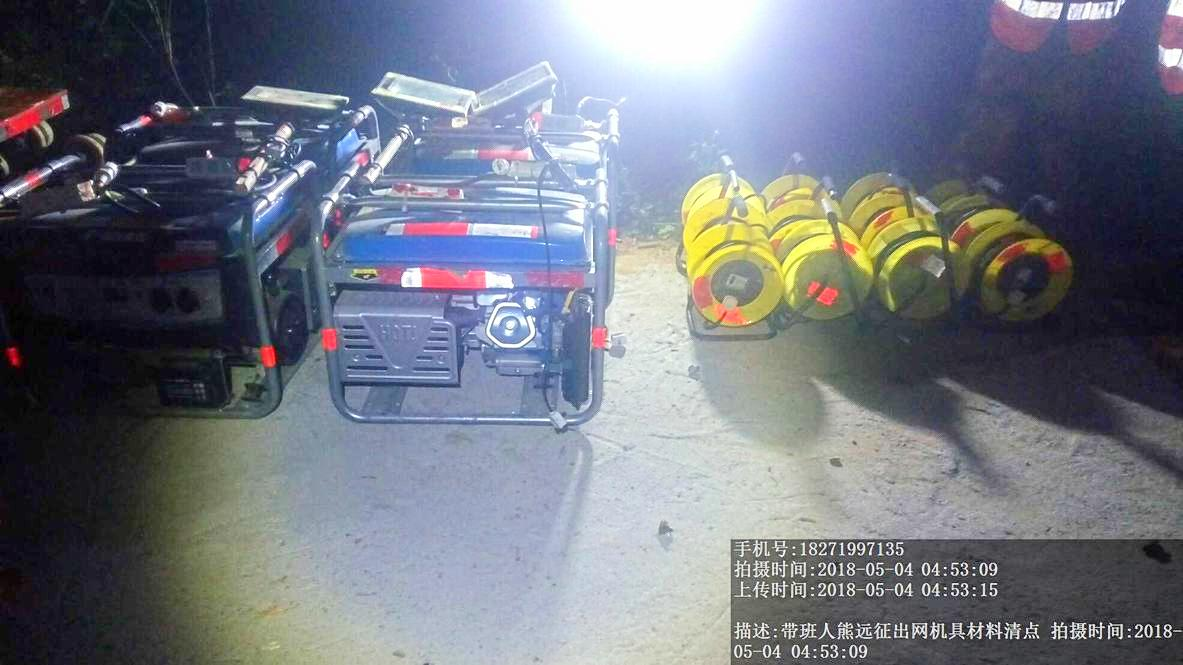DJ: (310, 161, 625, 440), (3, 166, 317, 442)
DX: (675, 235, 783, 347), (863, 219, 969, 325), (969, 225, 1074, 327), (778, 223, 876, 328)
